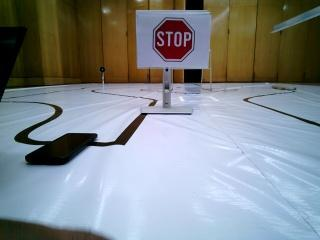stop: (142, 14, 202, 65)
